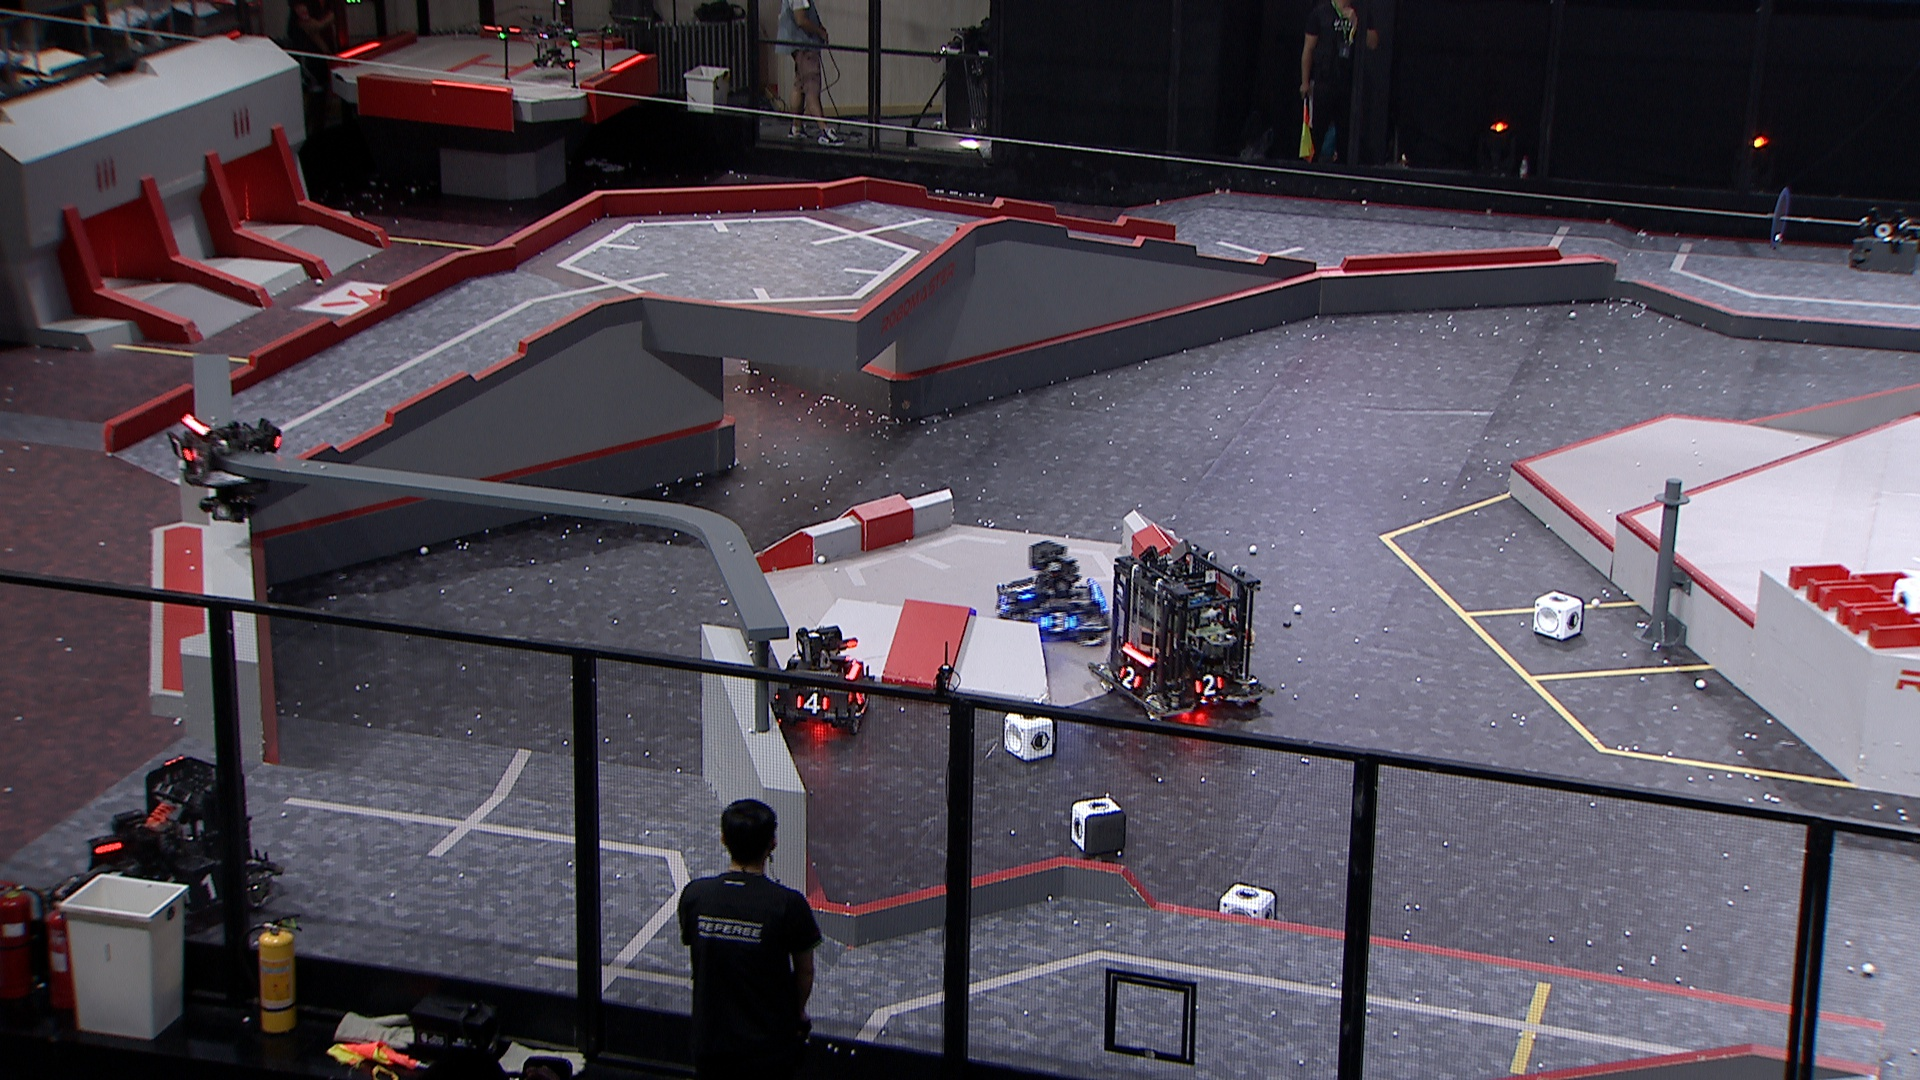armor: (183, 874, 224, 907), (794, 690, 832, 717), (1040, 611, 1081, 636), (166, 431, 195, 463), (1192, 674, 1228, 698), (1117, 665, 1145, 690), (1011, 580, 1036, 604)
car: (47, 754, 285, 948), (1088, 543, 1275, 727), (992, 538, 1116, 647), (765, 621, 874, 736)
watcher: (166, 413, 285, 524)
